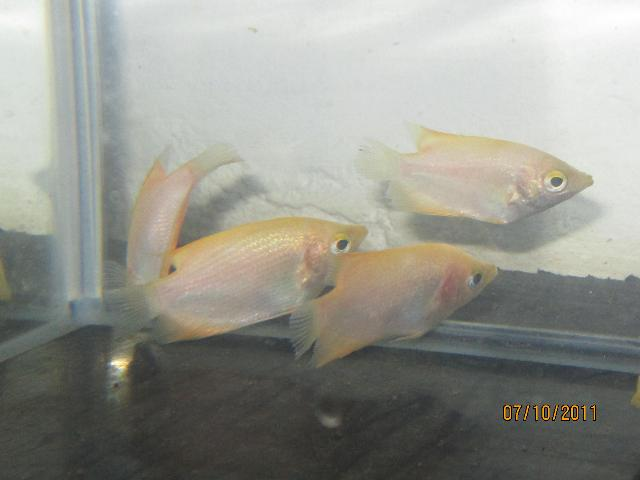Mulut: (332, 210, 381, 258), (471, 246, 515, 296), (570, 153, 610, 202)
Sirip Anal: (377, 172, 468, 228), (306, 324, 378, 387), (146, 303, 227, 353), (130, 134, 177, 188)
Sirip Ekor: (91, 254, 155, 354), (276, 287, 324, 371), (341, 128, 403, 190), (182, 138, 252, 192)
Sirip Punggung: (305, 243, 367, 294), (157, 230, 220, 276), (400, 114, 454, 162)
